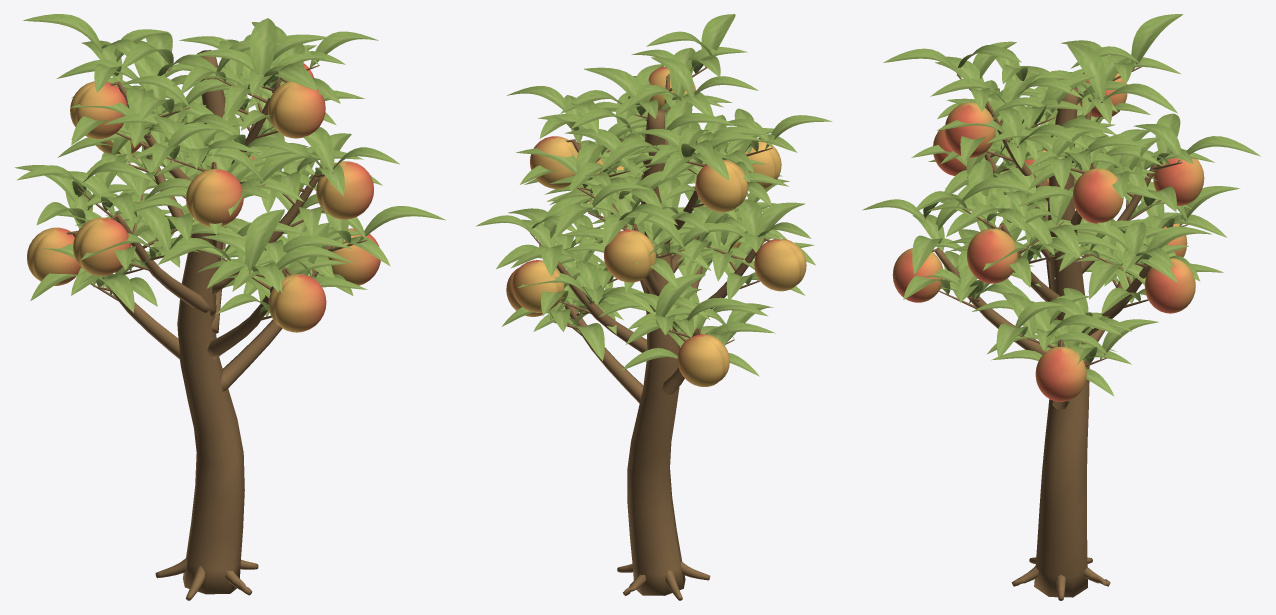
The model's file is peach_mature.glb.
3 renders of one model, left to right at view 1: azimuth 30°, elevation 25°; view 2: azimuth 150°, elevation 25°; view 3: azimuth 270°, elevation 25°, orthographic. The views are drawn at different scales.
Parts seen in each view (by area): view 1: leaves.001, stems.001, fruit; view 2: leaves.001, stems.001, fruit; view 3: leaves.001, stems.001, fruit.
Boxes of the visible parts, x1=… form: leaves.001: x1=14, y1=14, x2=445, y2=316; stems.001: x1=66, y1=50, x2=366, y2=600; fruit: x1=27, y1=63, x2=380, y2=332; leaves.001: x1=476, y1=14, x2=832, y2=376; stems.001: x1=530, y1=67, x2=772, y2=600; fruit: x1=506, y1=66, x2=806, y2=386; leaves.001: x1=862, y1=14, x2=1260, y2=396; stems.001: x1=925, y1=67, x2=1187, y2=600; fruit: x1=892, y1=72, x2=1204, y2=401.
Bounding box in the file's own units: 1.23 × 1.78 × 1.18.
